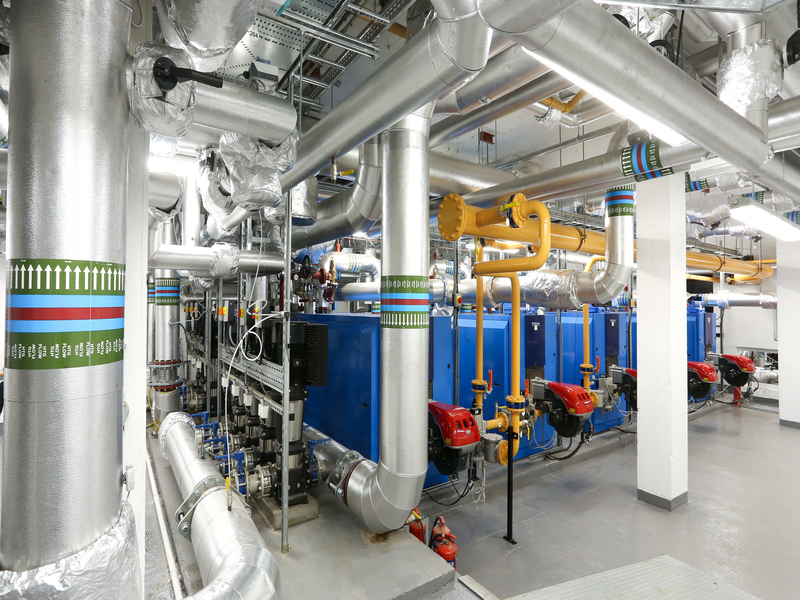valve: (496, 197, 523, 214), (330, 166, 358, 180)
